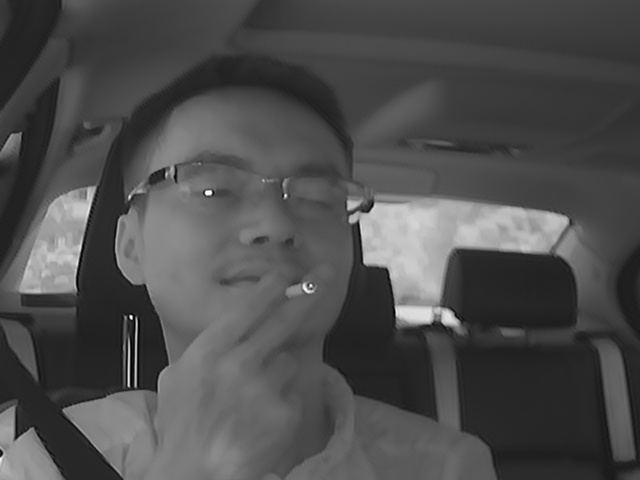hand: (184, 266, 330, 440)
